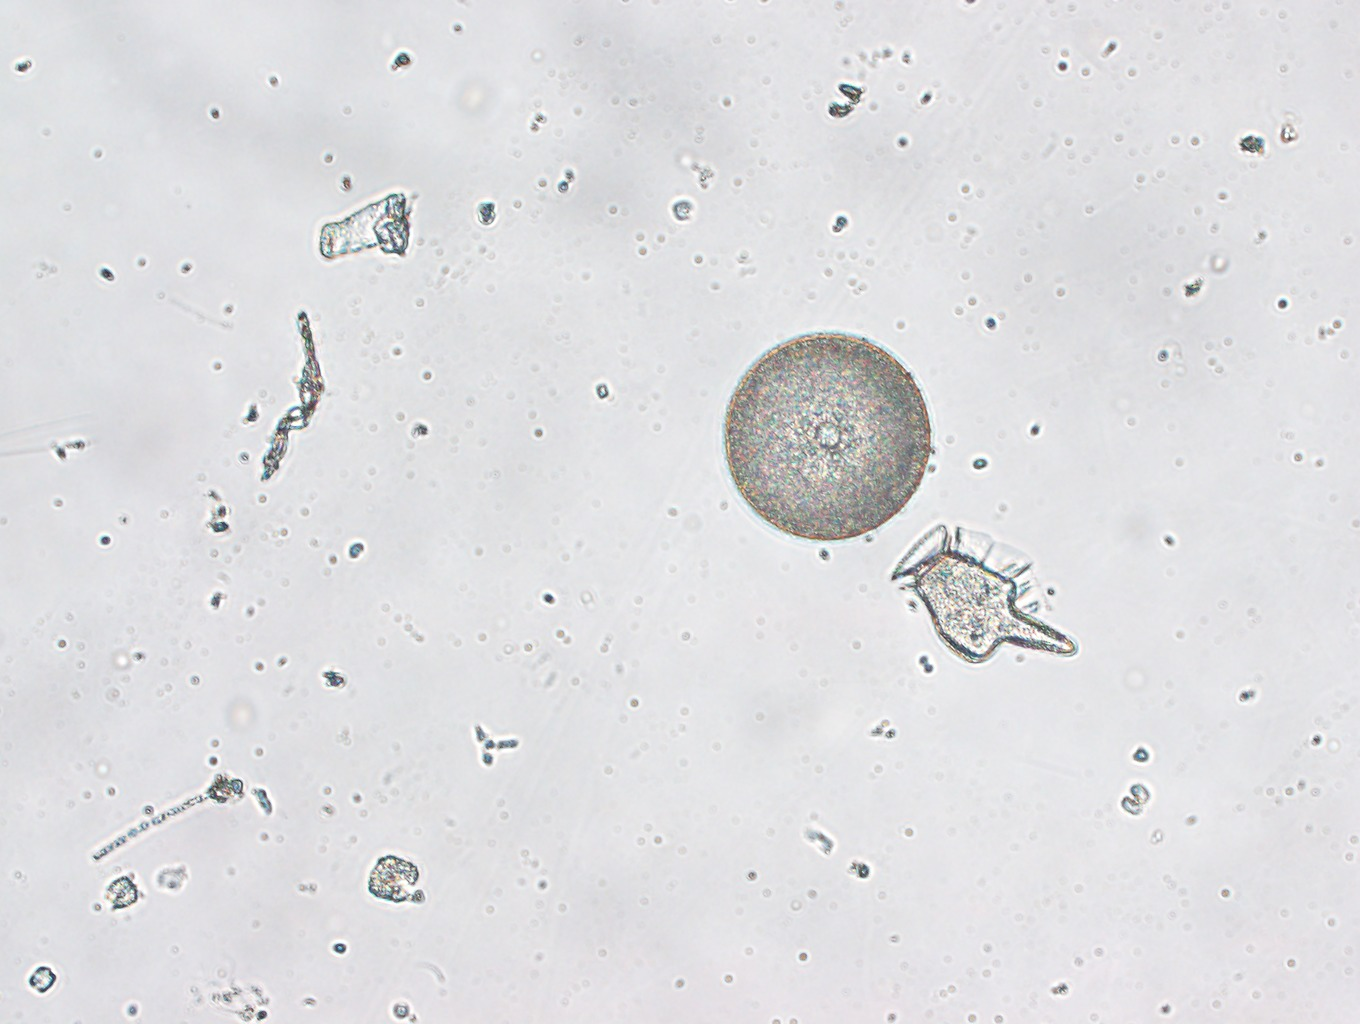coscinodiscus: (717, 319, 940, 549)
dinophysis caudata: (882, 515, 1090, 681)
